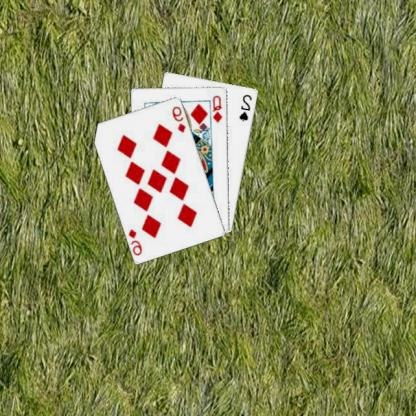2S: (238, 91, 256, 122)
9D: (171, 103, 189, 134), (128, 226, 145, 257)
QD: (212, 92, 226, 124)
